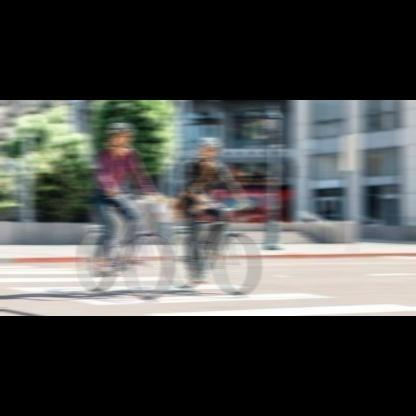Bicycle: (55, 184, 181, 305), (165, 189, 284, 302)
